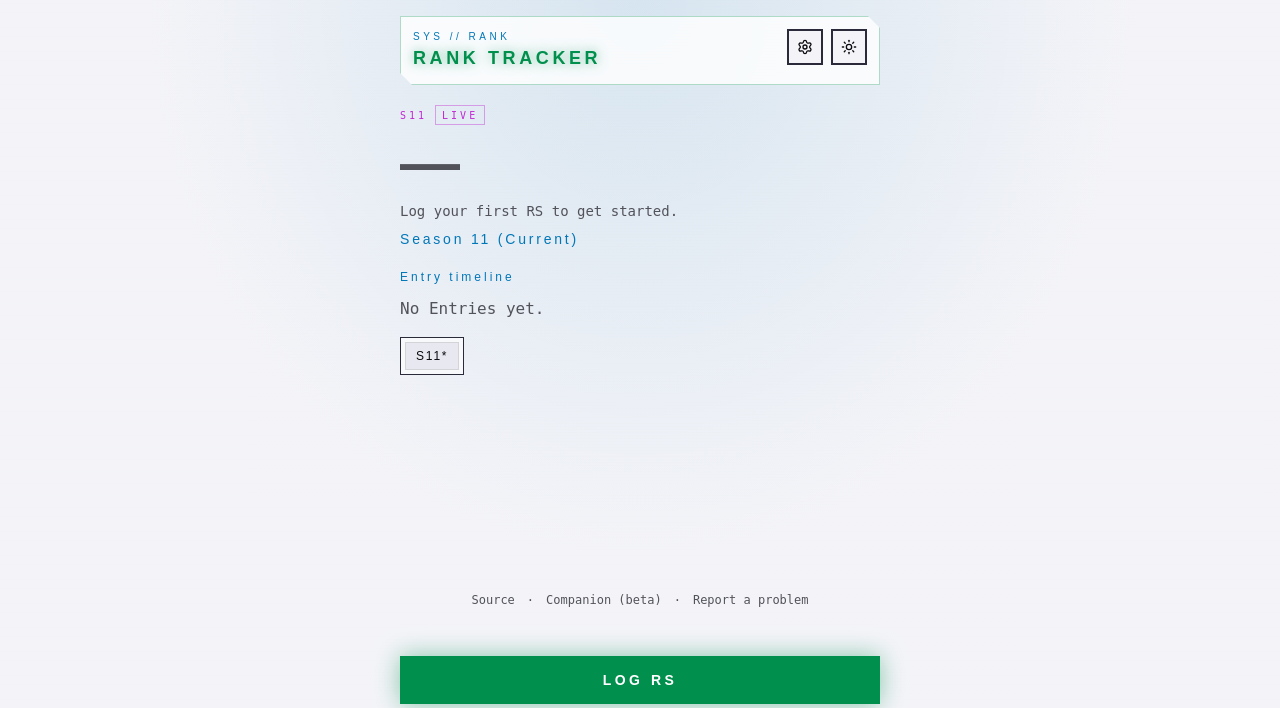
Scenario: header eyebrow updates rank when latest RS changes
Check: the text "SYS // RANK" is shown, box top-left (413, 31), bottom-right (510, 42)
Click the button "Log RS".
click(640, 680)  # box top-left (400, 656), bottom-right (880, 704)
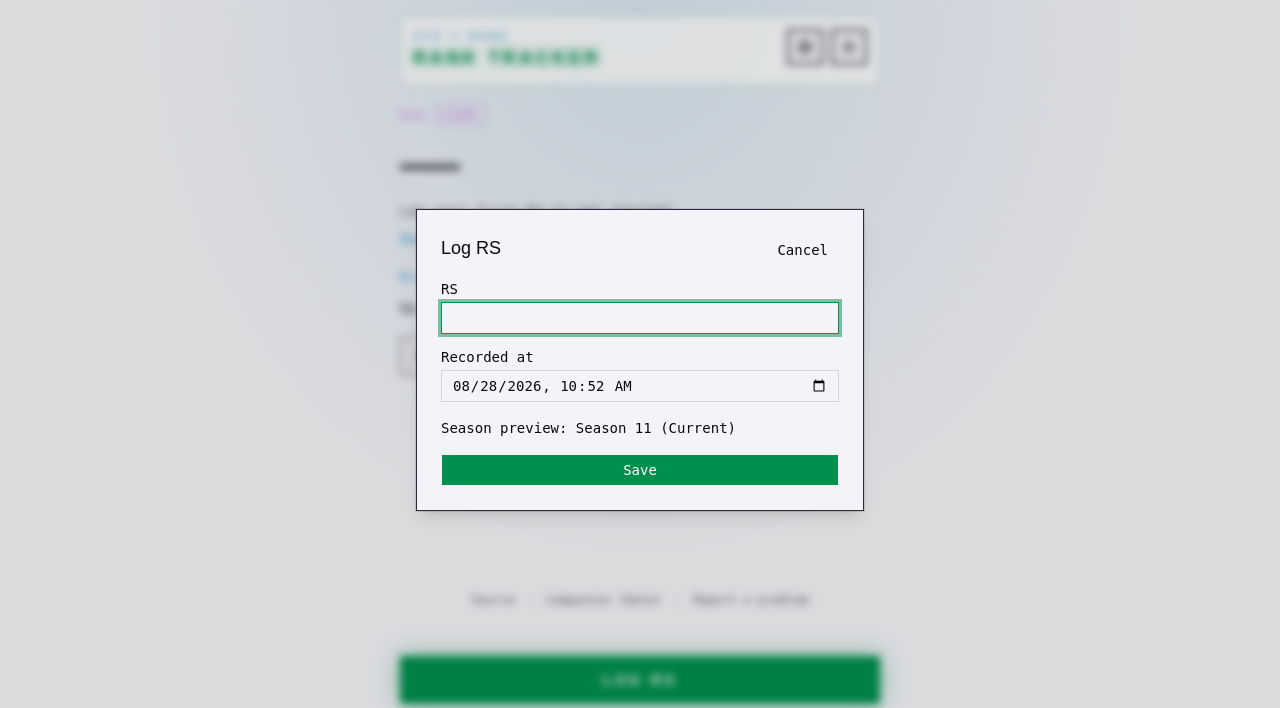
Replace the text in the field labelled "Recorded at" with "2026-07-16T10:00" at [640, 386], box top-left (441, 370), bottom-right (839, 402)
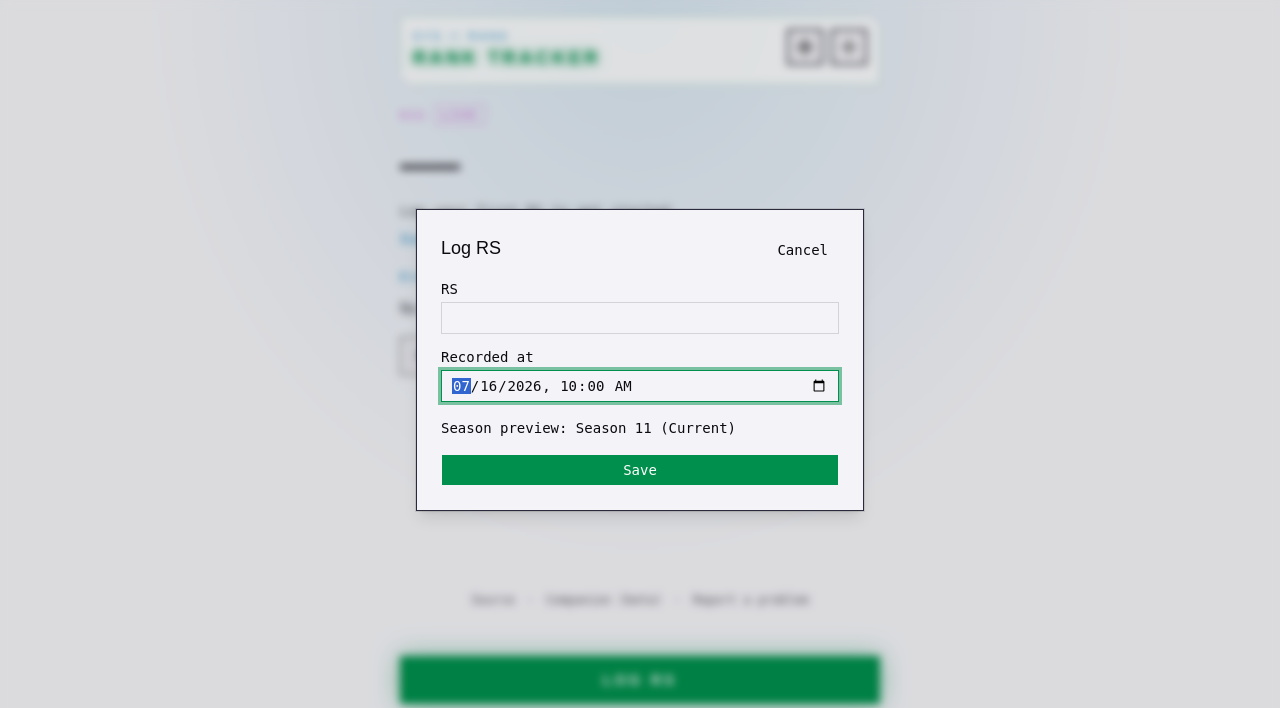
Type "27500" into the field labelled "RS".
click(640, 318); type("27500")  # box top-left (441, 302), bottom-right (839, 334)
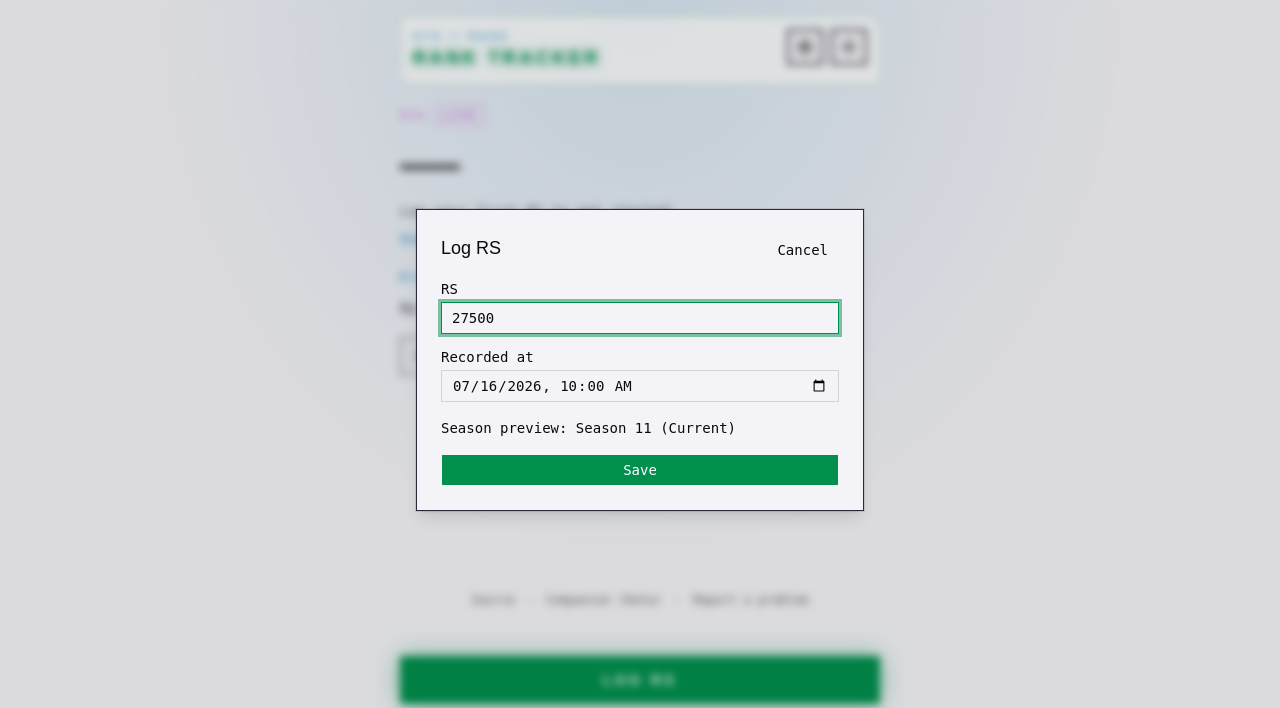
Click the button "Save".
click(640, 470)  # box top-left (441, 454), bottom-right (839, 486)
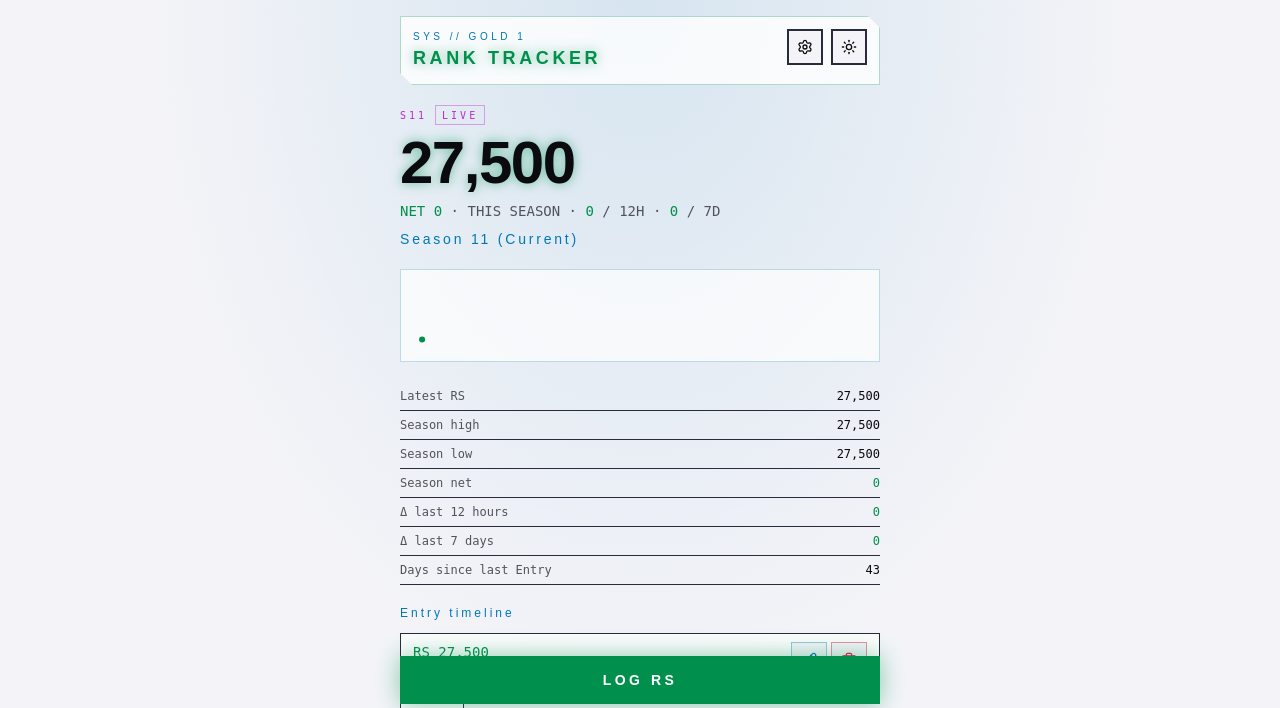
Check: the text "SYS // GOLD 1" is shown, box top-left (413, 31), bottom-right (526, 42)
